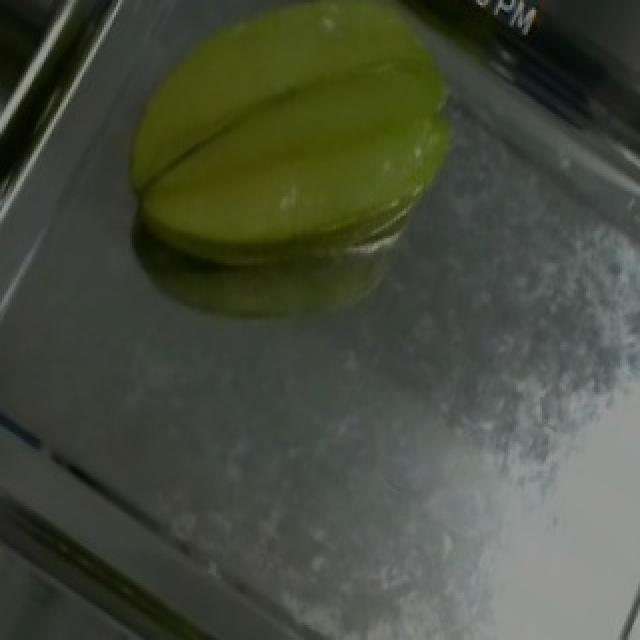fruit: (138, 3, 514, 305)
